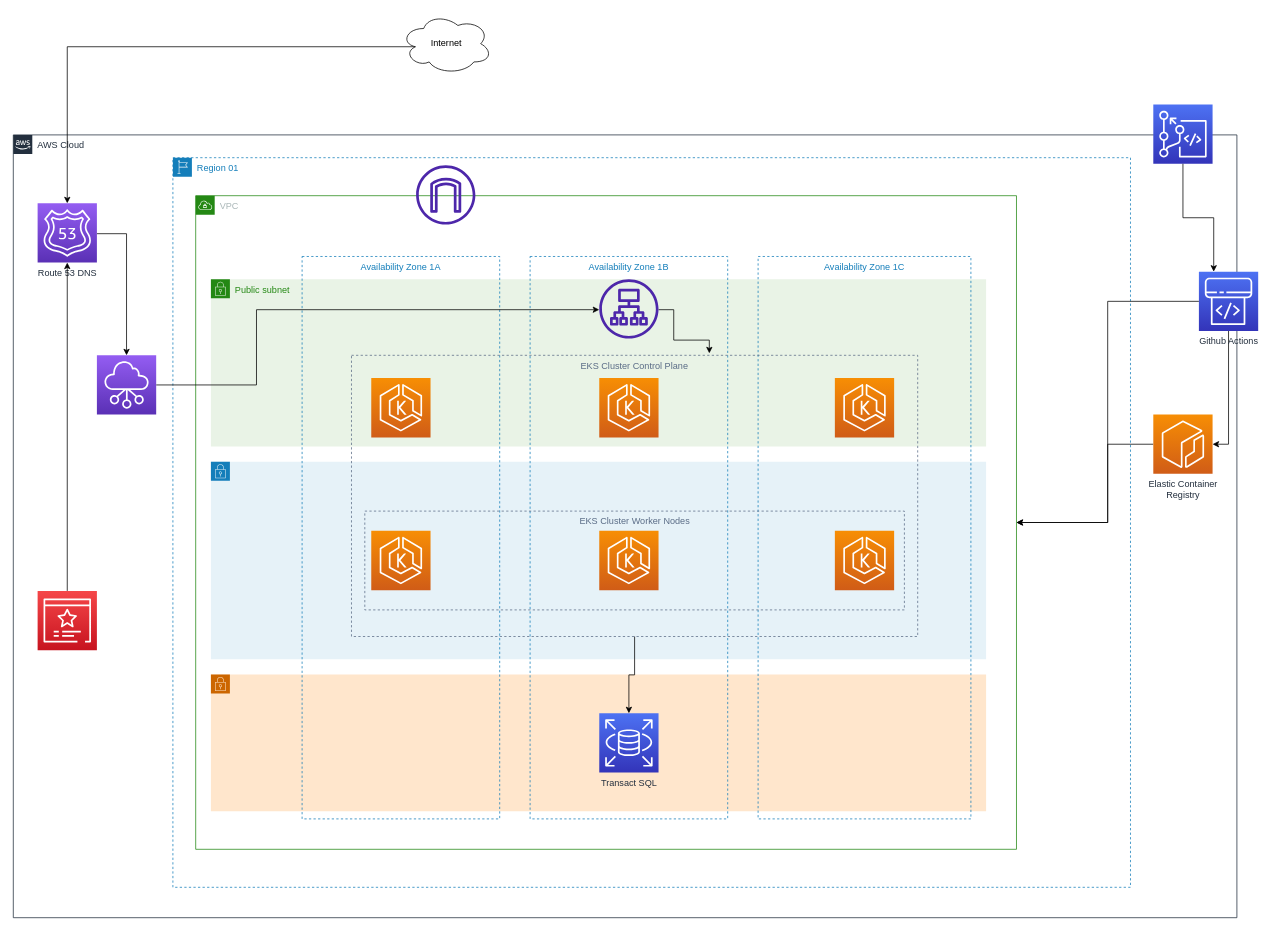
Image size: 1271x931. Some labels were removed from this diagram. The shapes that lost their labels are listed below. From the top down, each one's box as (x1, y1, x2, y2) in pixels, then its label:
(1153, 104, 1213, 164): GitHub Repo
(416, 165, 475, 224): Internet Gateway Outbound Traffic
(599, 279, 658, 338): EKS Ingress
(96, 355, 156, 415): Cloud Front
(210, 461, 986, 659): Private subnet
(37, 590, 97, 650): Certificate Manger
(210, 674, 986, 811): Databse subnet
